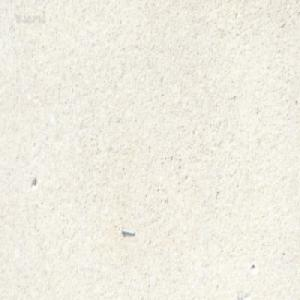Nail: (120, 226, 135, 235)
